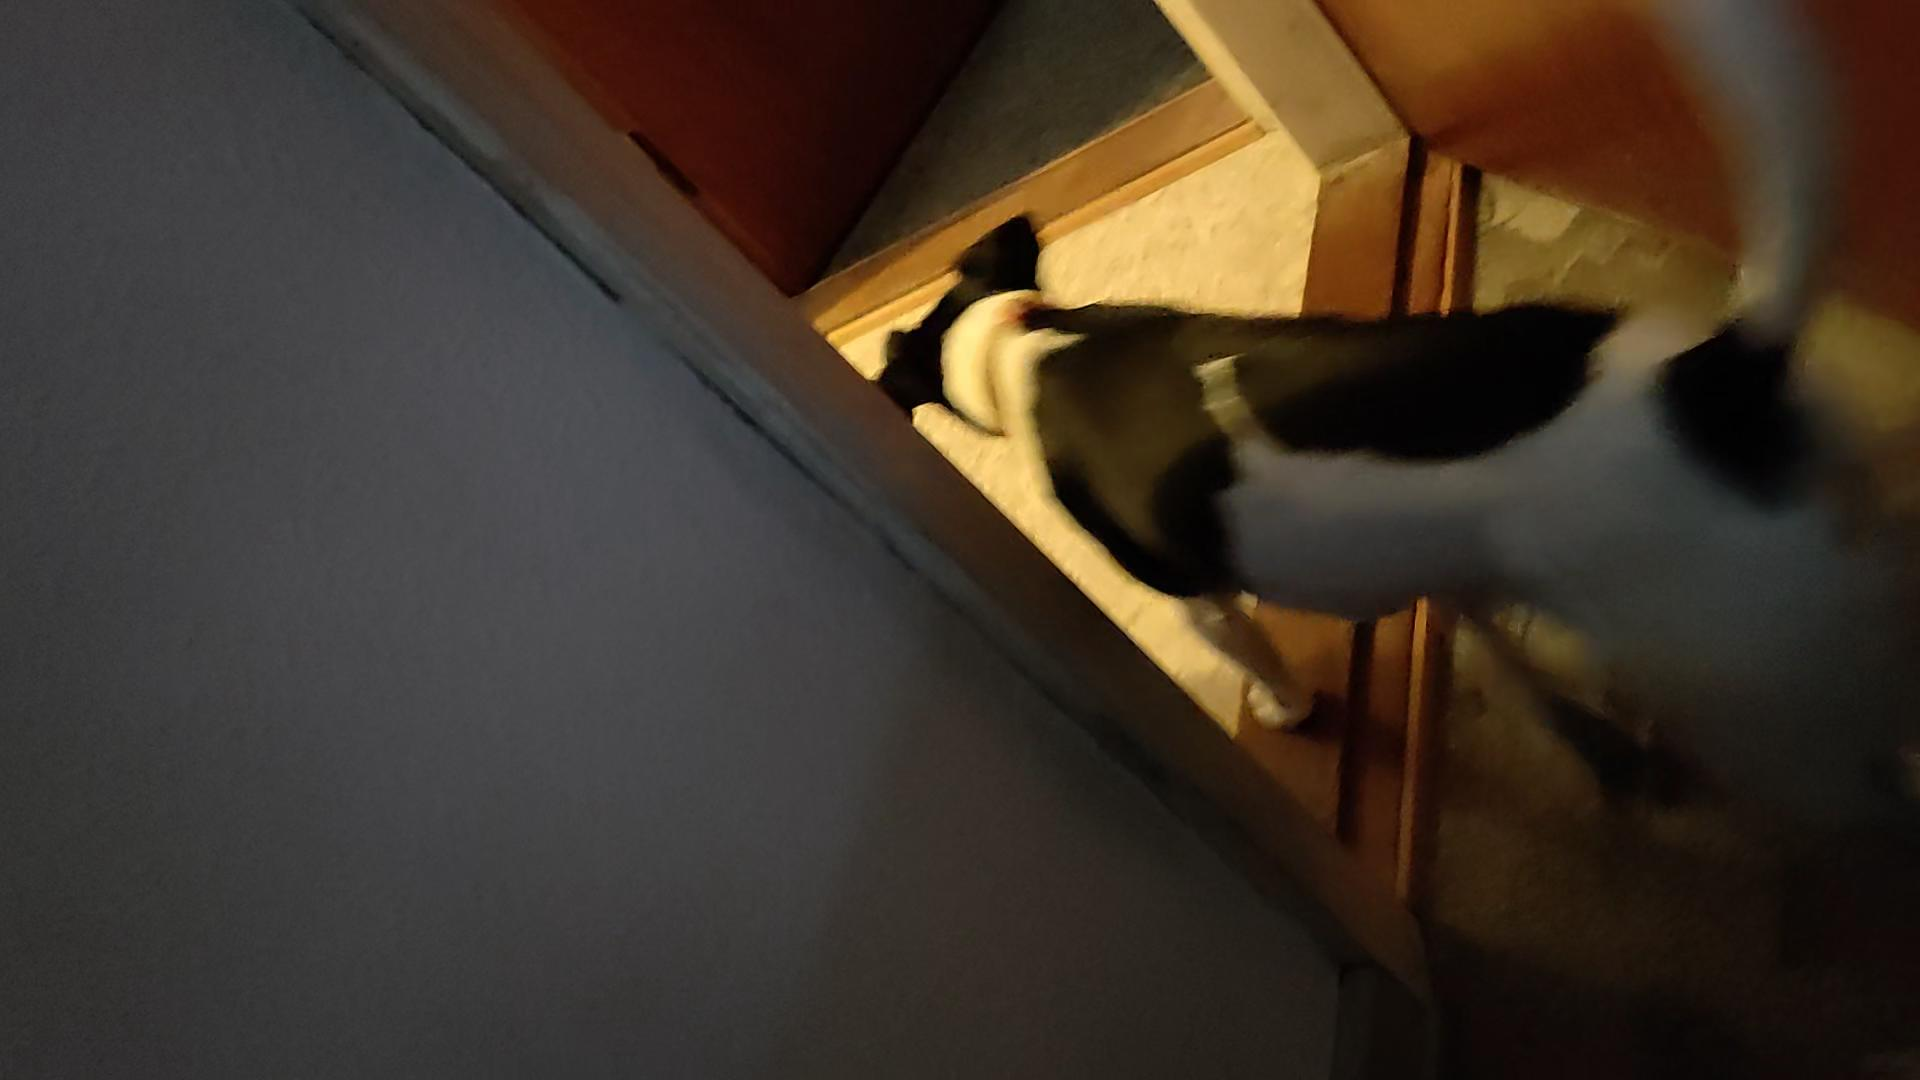Dog: (855, 0, 1919, 905)
